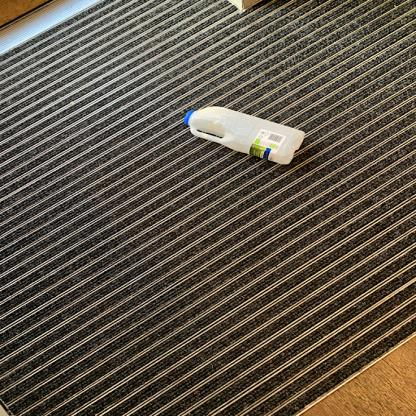trash: (180, 108, 308, 167)
